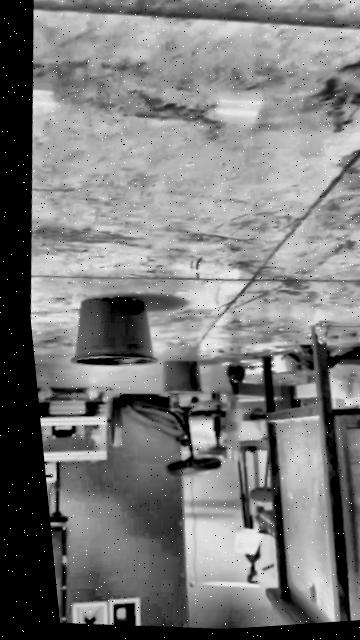pot: (64, 290, 163, 374), (160, 358, 205, 399)
